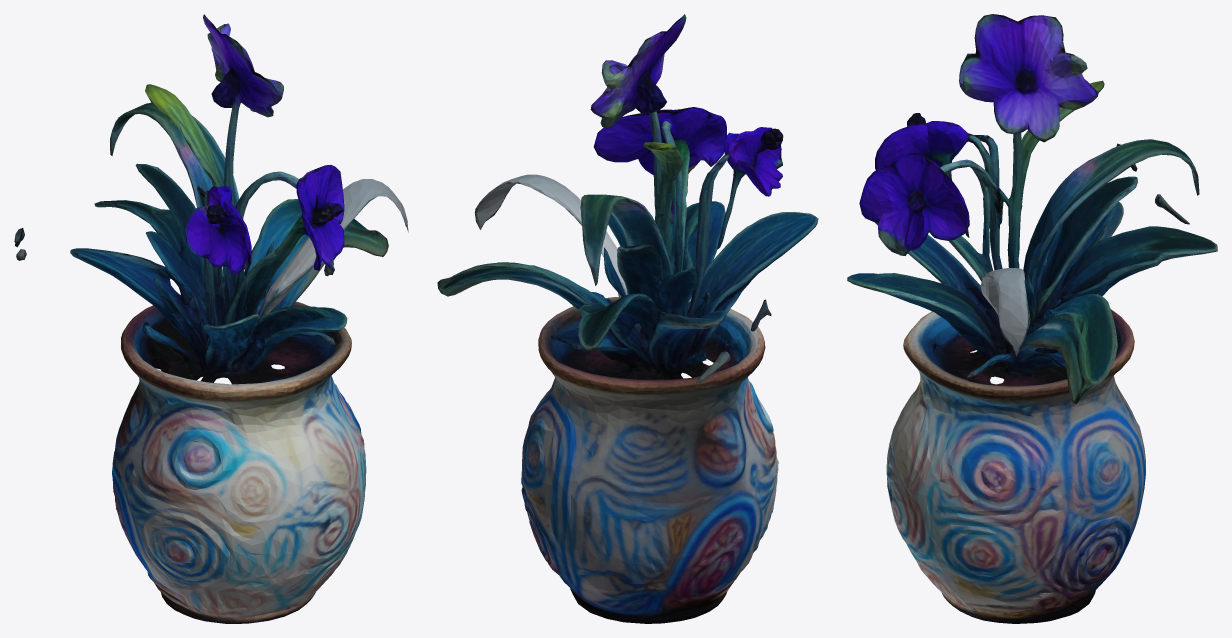
Rendered from vase.glb.
The picture shows the model from 3 angles, left to right: view 1: azimuth 30°, elevation 25°; view 2: azimuth 150°, elevation 25°; view 3: azimuth 270°, elevation 25°; orthographic projection.
Visible parts, largest first — view 1: world; view 2: world; view 3: world.
Part boxes in pixels (x1,y1,x2,y2): world: [14, 14, 408, 623]; world: [437, 14, 818, 623]; world: [847, 14, 1217, 623].
Bounding box in the file's own units: 0.649 × 0.9998 × 0.5904.
1 material, 1 textured.
